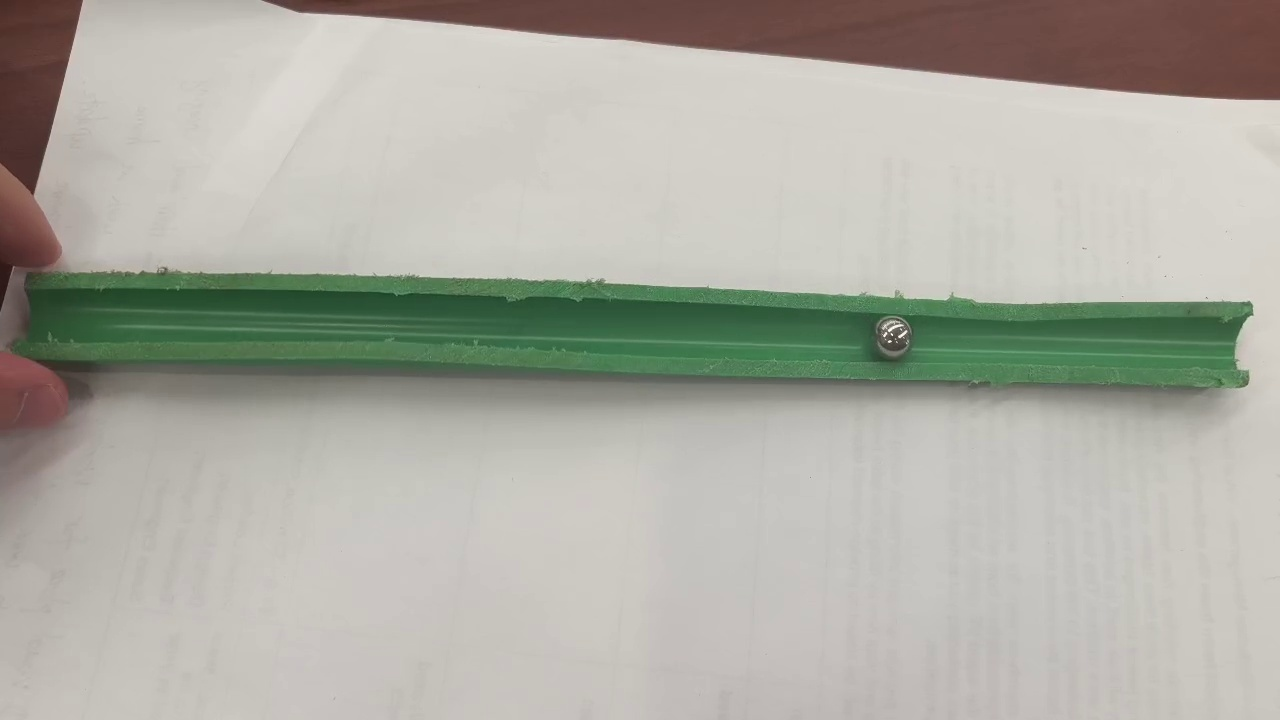ball: (876, 317, 912, 358)
